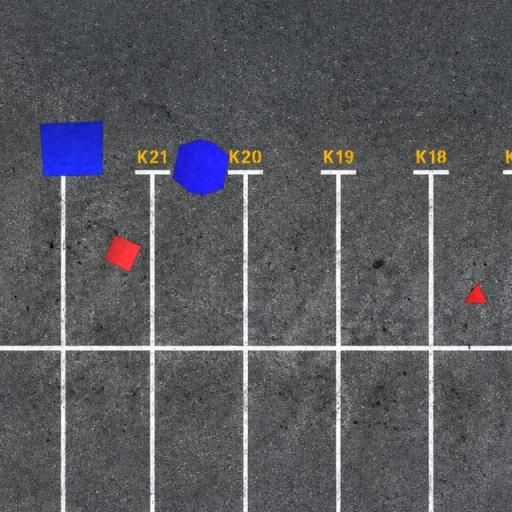BLUE_SQUARE: (39, 120, 104, 178)
RED_SQUARE: (103, 234, 142, 272)
